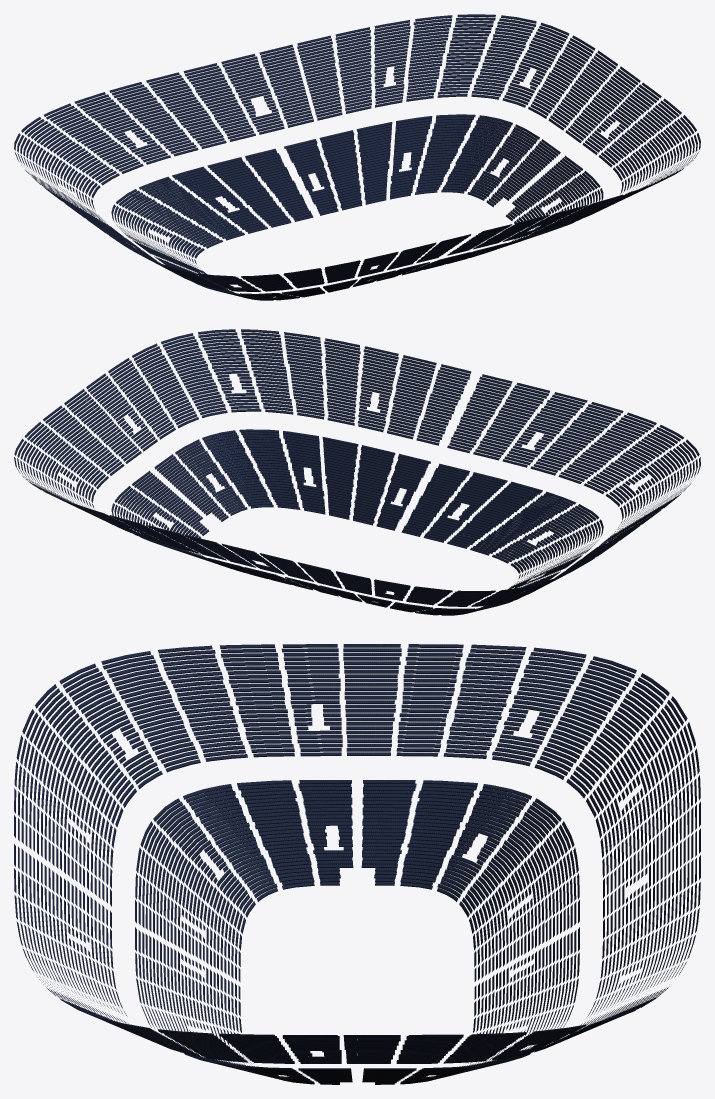
The model's file is seats_far.glb.
3 renders of one model, top to bottom at view 1: azimuth 30°, elevation 25°; view 2: azimuth 150°, elevation 25°; view 3: azimuth 270°, elevation 25°, orthographic. The views are drawn at different scales.
Visible parts, largest first — view 1: bands, fill_upper, fill_endzone, fill_club; view 2: bands, fill_club, fill_upper; view 3: bands, fill_endzone, fill_club, fill_upper.
Boxes of the visible parts, bbox=[...] form: bands: bbox=[14, 14, 700, 300]; fill_upper: bbox=[378, 233, 516, 272]; fill_endzone: bbox=[166, 242, 264, 300]; fill_club: bbox=[341, 250, 486, 288]; bands: bbox=[14, 329, 700, 615]; fill_club: bbox=[340, 467, 487, 535]; fill_upper: bbox=[378, 403, 517, 462]; bands: bbox=[14, 644, 700, 1084]; fill_endzone: bbox=[252, 846, 462, 898]; fill_club: bbox=[167, 898, 223, 1019]; fill_upper: bbox=[75, 839, 112, 954].
Bounding box in the file's own units: 237 × 41.2 × 176.
Materials: 1 (1 with a texture image).
